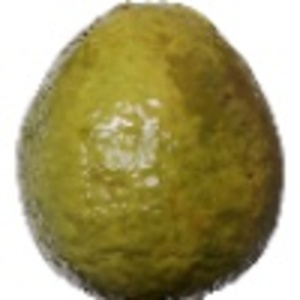goiaba: (11, 1, 289, 297)
